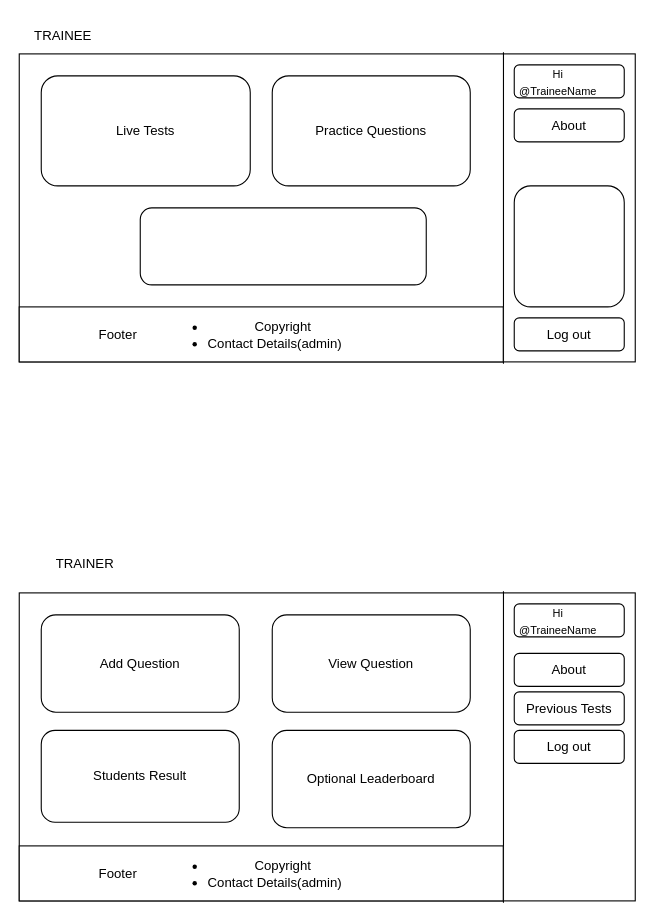
The diagram is 655 pixels wide and 923 high, and some of its shapes have lost their labels. The shapes that lost their labels are listed below. From the top down, each one's centre as x and y in pixels, then its label:
[282,246]: Results Table
[568,246]: Progress
